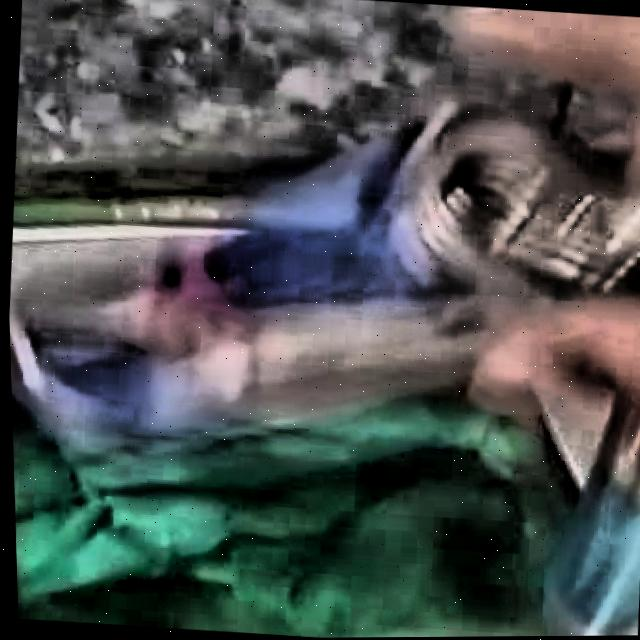metal: (18, 100, 640, 438)
